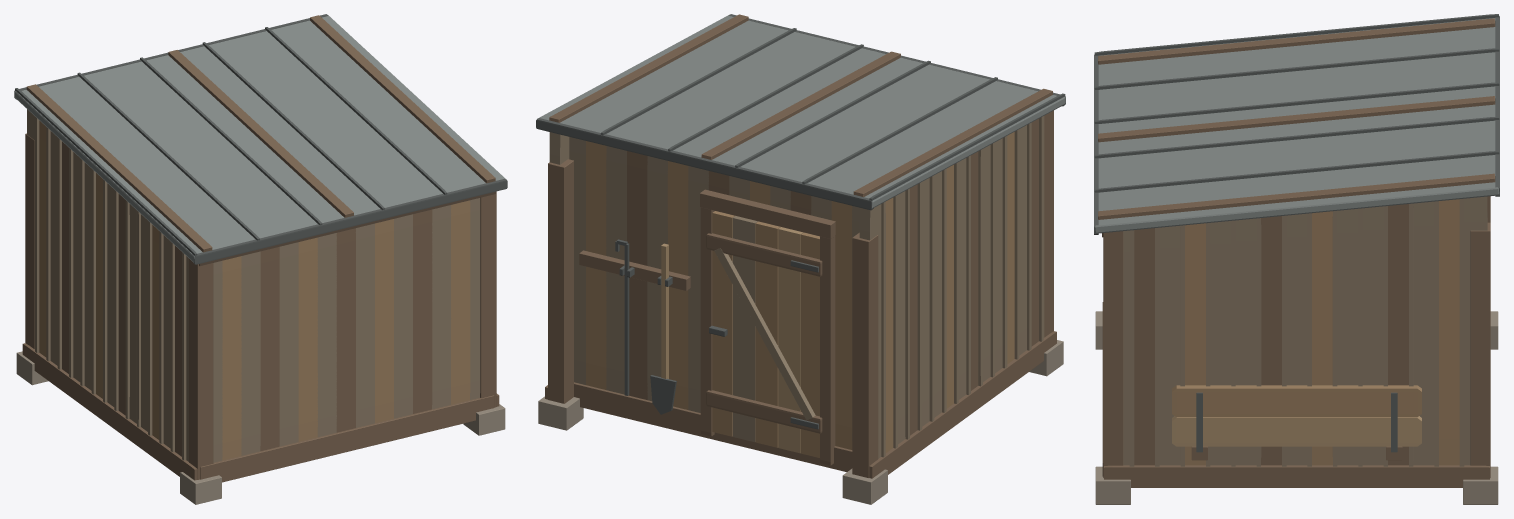
Rendered from WestToolHouse.glb.
The picture shows the model from 3 angles, left to right: view 1: azimuth 30°, elevation 25°; view 2: azimuth 150°, elevation 25°; view 3: azimuth 270°, elevation 25°; orthographic projection. The views are drawn at different scales.
Visible parts, largest first — view 1: WestToolHouse; view 2: WestToolHouse; view 3: WestToolHouse.
Boxes of the visible parts, bbox=[...] form: WestToolHouse: bbox=[14, 14, 507, 504]; WestToolHouse: bbox=[536, 14, 1065, 504]; WestToolHouse: bbox=[1094, 14, 1499, 504].
Bounding box in the file's own units: 3.01 × 2.63 × 3.
